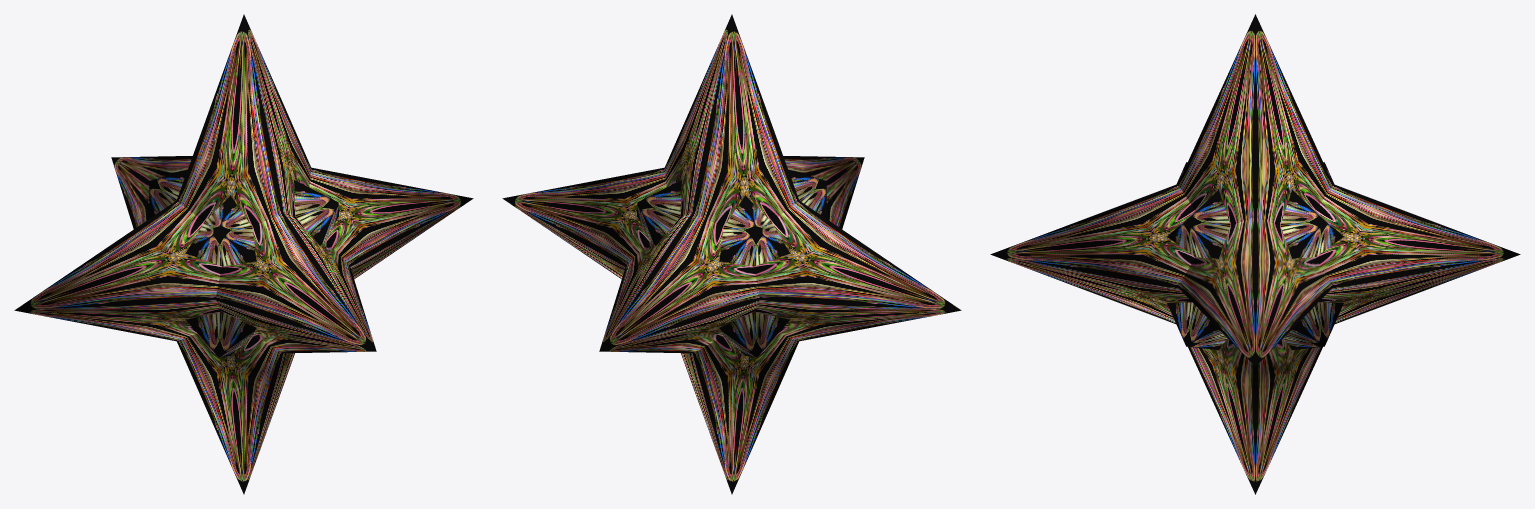
File: GreatHexacronicIcositetrahedron9.gltf
The picture shows the model from 3 angles, left to right: view 1: azimuth 30°, elevation 25°; view 2: azimuth 150°, elevation 25°; view 3: azimuth 270°, elevation 25°; orthographic projection.
Parts seen in each view (by area): view 1: GreatHexacronicIcositetrahedron9; view 2: GreatHexacronicIcositetrahedron9; view 3: GreatHexacronicIcositetrahedron9.
Boxes of the visible parts, x1,y1,x2,y2 form: GreatHexacronicIcositetrahedron9: [14, 14, 473, 494]; GreatHexacronicIcositetrahedron9: [502, 14, 961, 494]; GreatHexacronicIcositetrahedron9: [990, 14, 1520, 494].
Size of the model in its own units: 2.83 by 2.83 by 2.83.
1 material, 1 textured.
